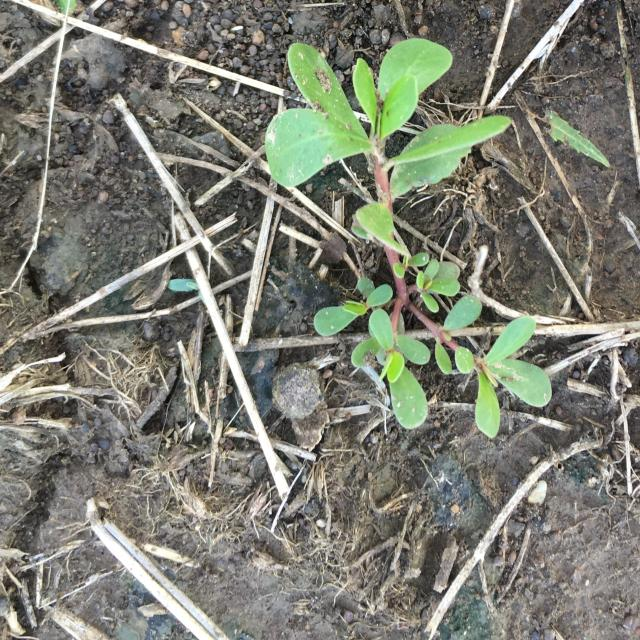Purslane: (265, 38, 552, 438)
